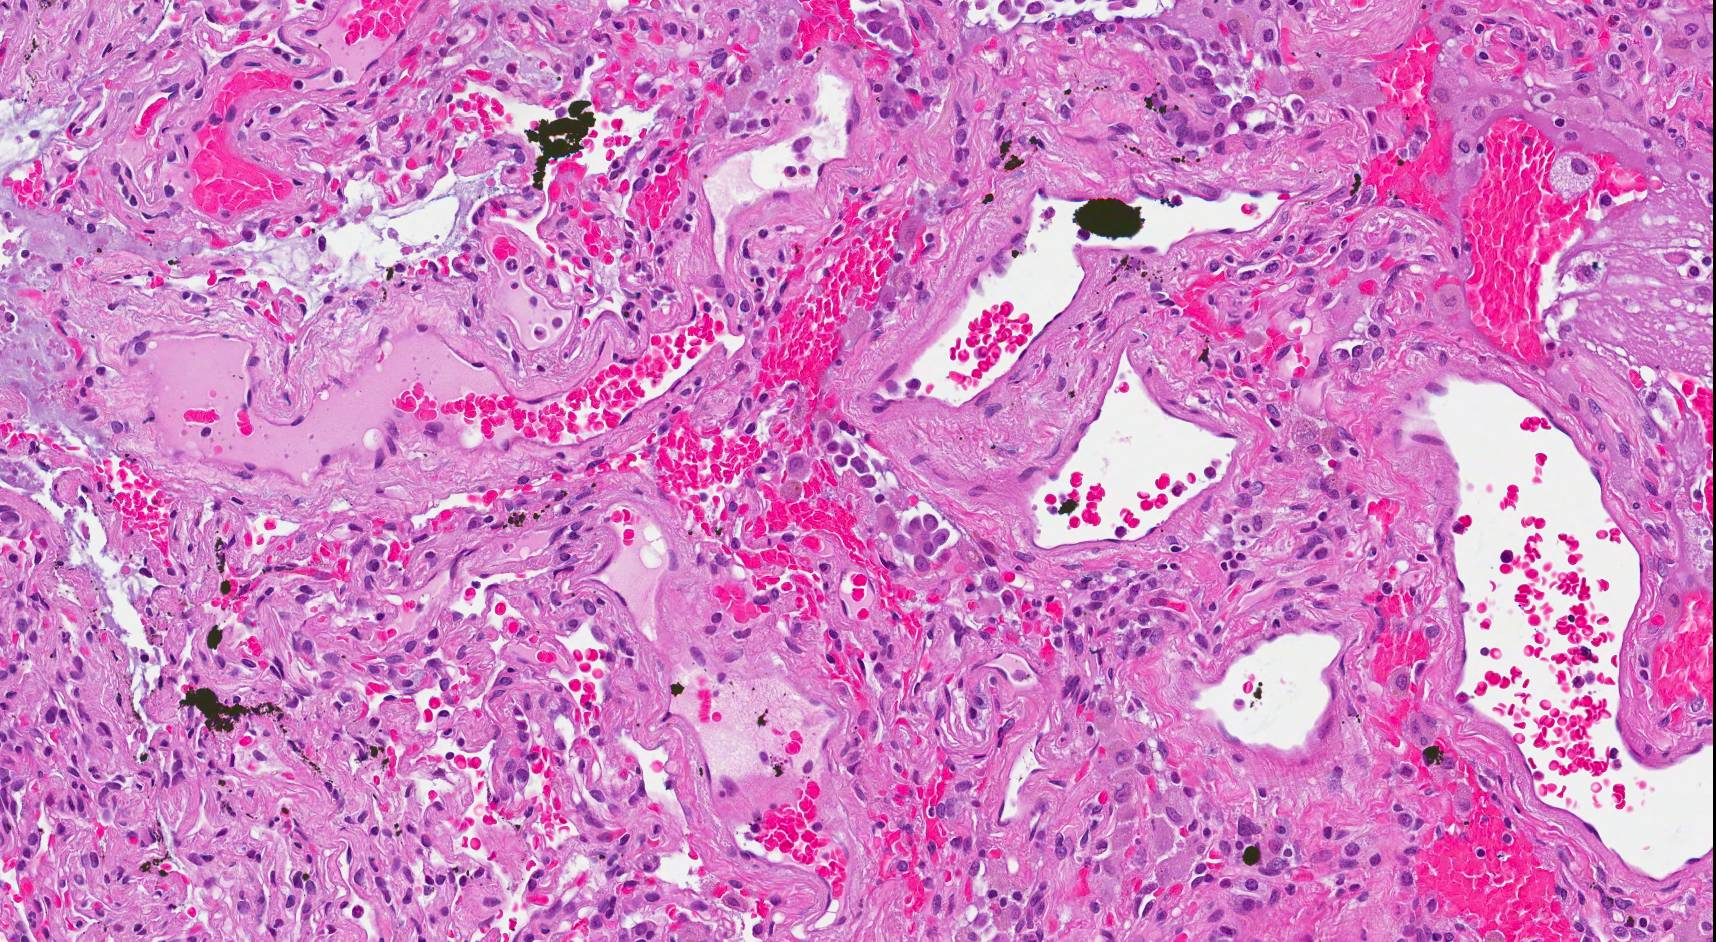stas: (890, 504, 952, 571)
